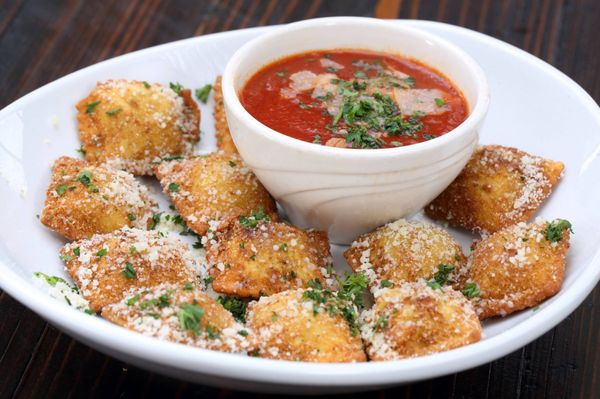sushi: (222, 16, 492, 247)
